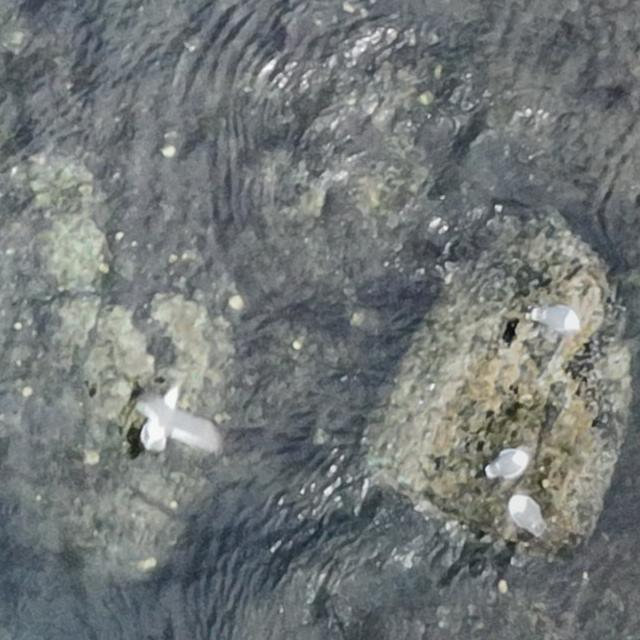F: (130, 382, 214, 455)
umineko: (510, 492, 544, 538), (534, 302, 583, 332), (482, 448, 524, 478)
